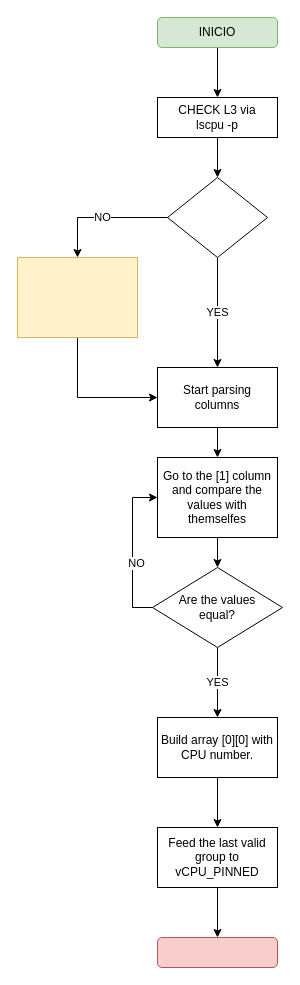
This 300x985 diagram has some shape labels left out. The shapes that lost their labels are listed below. From the top down, each one's centre as x and y in pixels, then its label:
point (217, 217): Is it all equal?
point (77, 297): Create N array's for each different L3 number (save the lines)
point (217, 952): END
